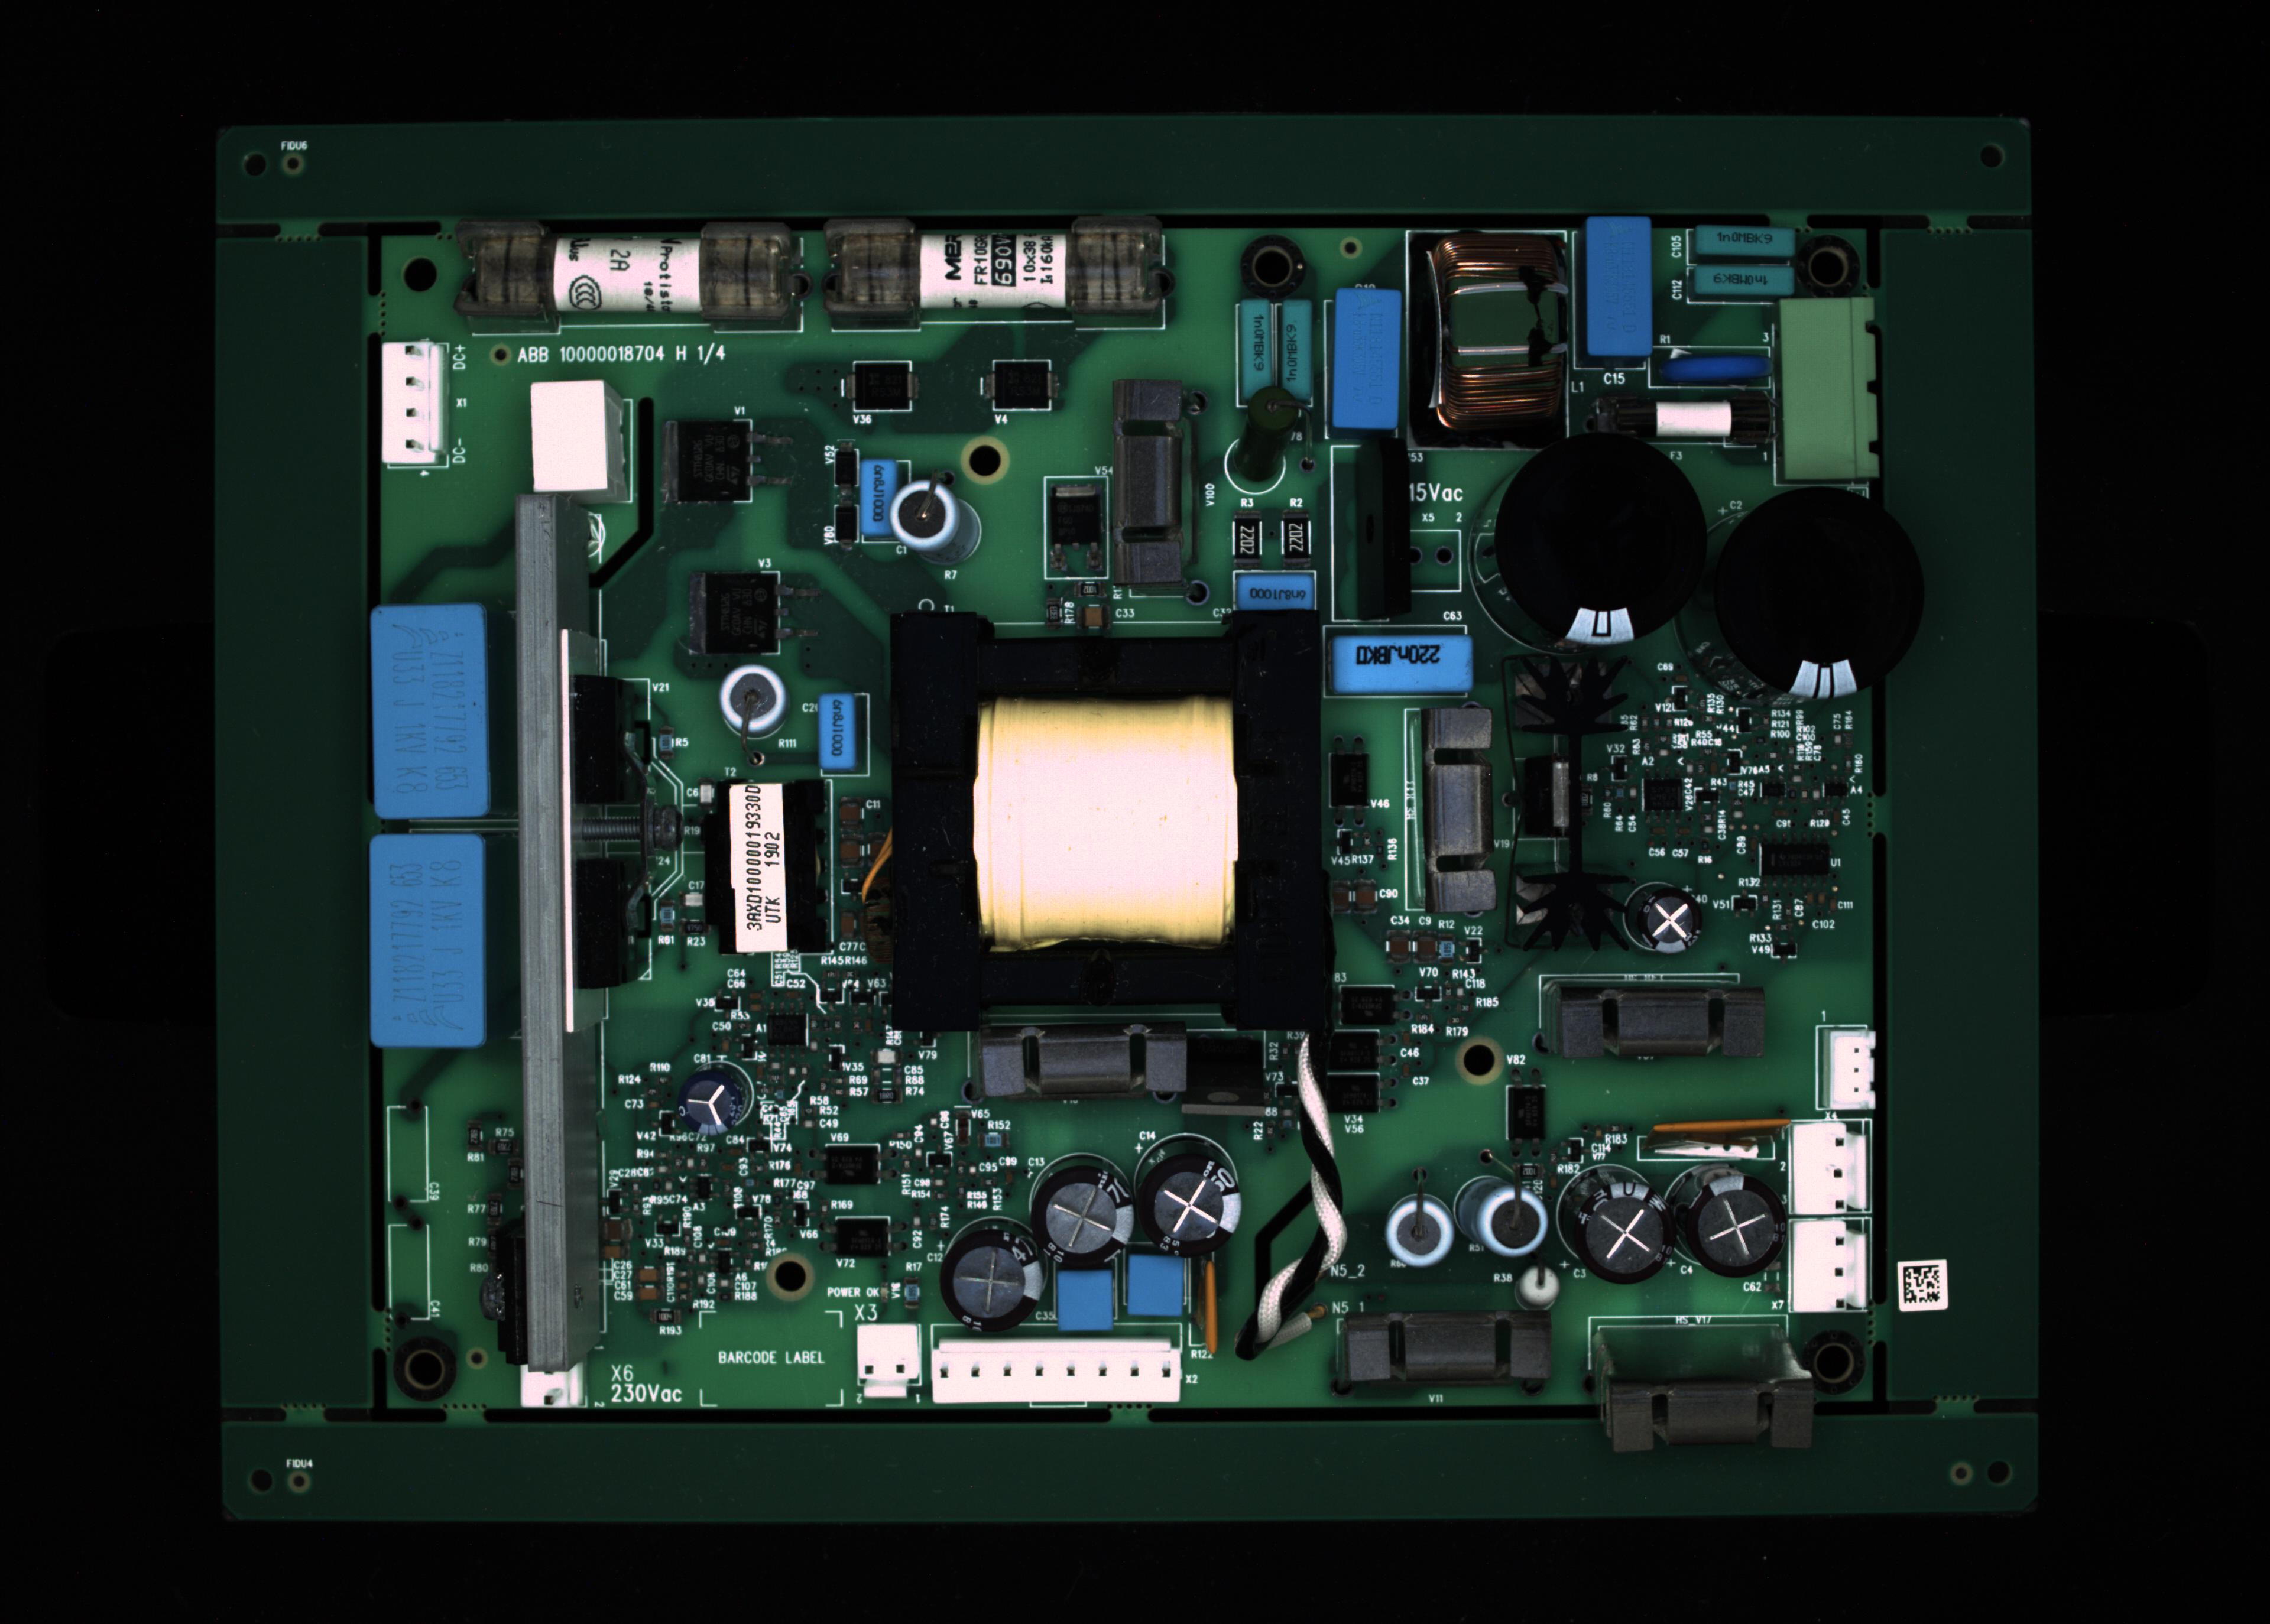10_p: (1648, 346, 1772, 394)
11_q: (1779, 301, 1880, 482)
12_r: (1591, 387, 1776, 455)
13_s: (380, 337, 443, 466)
14_t: (529, 380, 629, 503)
15_e: (862, 459, 897, 533)
16_k: (891, 464, 985, 569)
17_u: (1122, 383, 1187, 584)
18_v: (1236, 575, 1315, 608)
19_w: (1343, 636, 1470, 694)
1_a: (452, 218, 795, 325)
21_g: (1489, 429, 1709, 649)
22_g: (1713, 482, 1929, 700)
23_h: (371, 603, 485, 821)
24_h: (375, 823, 484, 1040)
25_f: (515, 1360, 591, 1411)
26_f: (856, 1323, 925, 1397)
27_x: (935, 1336, 1178, 1406)
28_i: (1129, 1120, 1241, 1239)
29_i: (1027, 1153, 1134, 1274)
2_a: (825, 216, 1175, 322)
30_i: (941, 1216, 1055, 1339)
31_j: (1050, 1267, 1120, 1339)
32_j: (1115, 1237, 1197, 1329)
33_e: (816, 692, 856, 768)
34_k: (1373, 1181, 1465, 1281)
35_k: (1456, 1178, 1542, 1271)
36_i: (1556, 1164, 1672, 1295)
37_i: (1663, 1160, 1786, 1290)
38_l: (1345, 1315, 1556, 1390)
39_l: (1600, 1380, 1818, 1457)
3_b: (1240, 295, 1270, 399)
40_l: (1553, 977, 1771, 1063)
41_y: (1407, 678, 1505, 919)
42_z: (1827, 1025, 1880, 1104)
43_m: (1795, 1121, 1867, 1214)
44_m: (1792, 1227, 1867, 1313)
45_i: (679, 1065, 756, 1142)
46_n: (1338, 982, 1396, 1026)
47_n: (830, 1142, 884, 1188)
48_n: (839, 1216, 895, 1265)
49_aa: (761, 1011, 814, 1056)
4_b: (1280, 299, 1310, 399)
50_n: (1321, 1030, 1384, 1074)
51_n: (1313, 1070, 1377, 1116)
52_ab: (1329, 740, 1377, 831)
53_ac: (1656, 1130, 1790, 1165)
54_ad: (1194, 1253, 1222, 1364)
55_l: (972, 1033, 1178, 1098)
56_ae: (1176, 1025, 1266, 1107)
57_af: (1509, 647, 1635, 951)
58_i: (1630, 884, 1706, 958)
59_o: (990, 360, 1053, 410)
5_c: (1333, 285, 1398, 424)
60_o: (851, 360, 913, 411)
6_6: (1405, 232, 1572, 452)
7_c: (1590, 218, 1651, 355)
8_d: (1695, 225, 1792, 260)
9_d: (1697, 262, 1793, 294)
